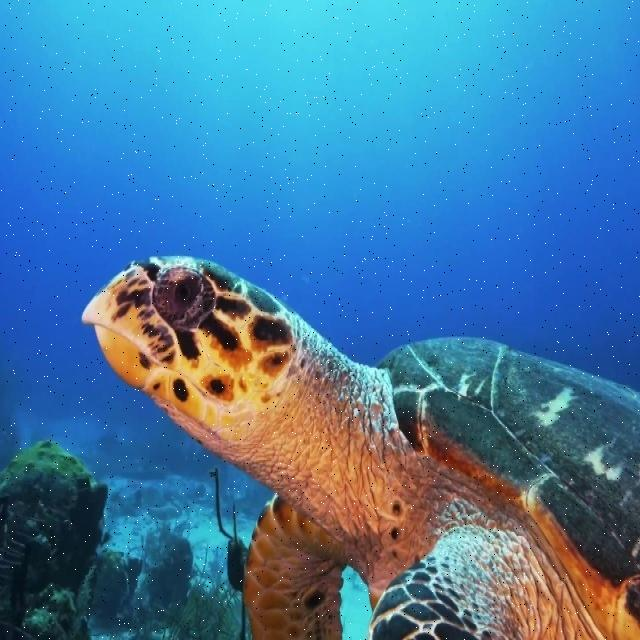fish: (79, 253, 639, 639)
sea-floor: (0, 440, 236, 638)
